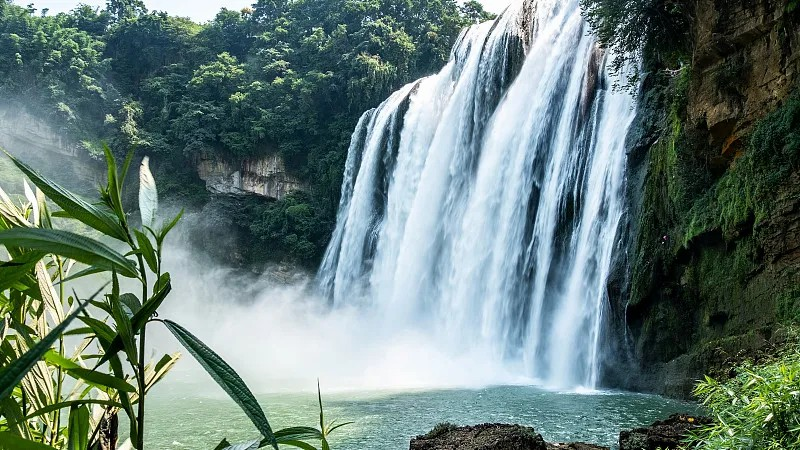Huangguoshu: (318, 1, 639, 398)
